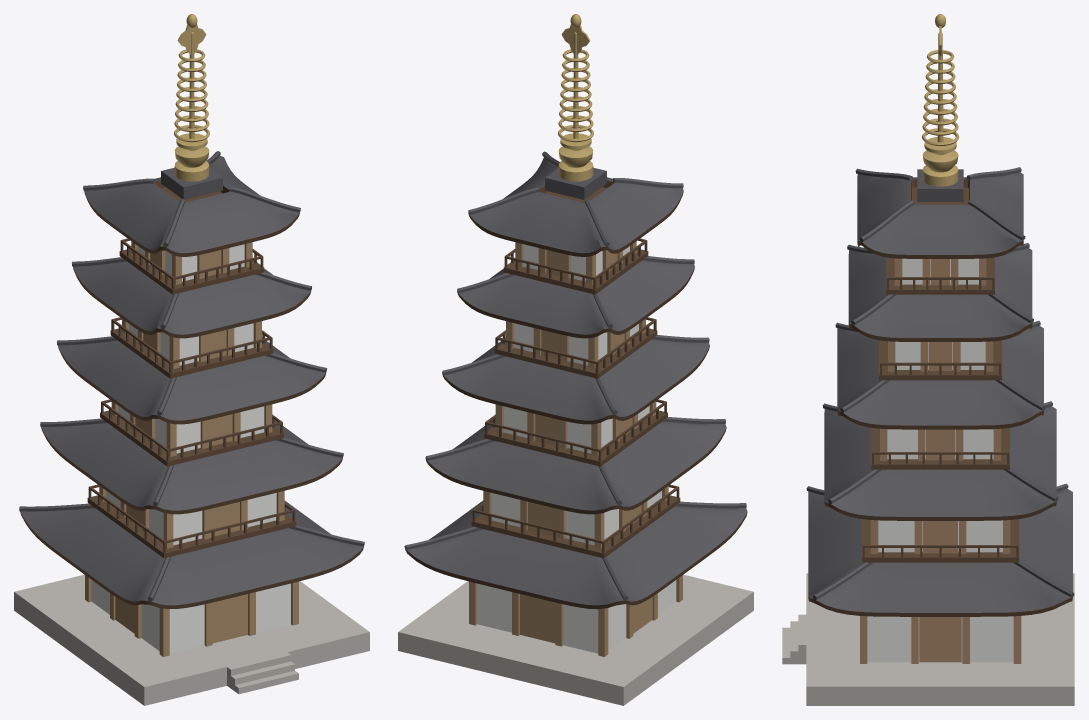
The model's file is Landmark_Pagoda.fbx.
3 views of the same model, side by side, from view 1: azimuth 30°, elevation 25°; view 2: azimuth 150°, elevation 25°; view 3: azimuth 270°, elevation 25° (orthographic). The views are drawn at different scales.
Parts seen in each view (by area): view 1: Pagoda; view 2: Pagoda; view 3: Pagoda.
Boxes of the visible parts, bbox=[...] form: Pagoda: bbox=[14, 14, 369, 705]; Pagoda: bbox=[398, 14, 753, 705]; Pagoda: bbox=[782, 14, 1074, 705].
Size of the model in its own units: 15 by 39.17 by 16.35.
